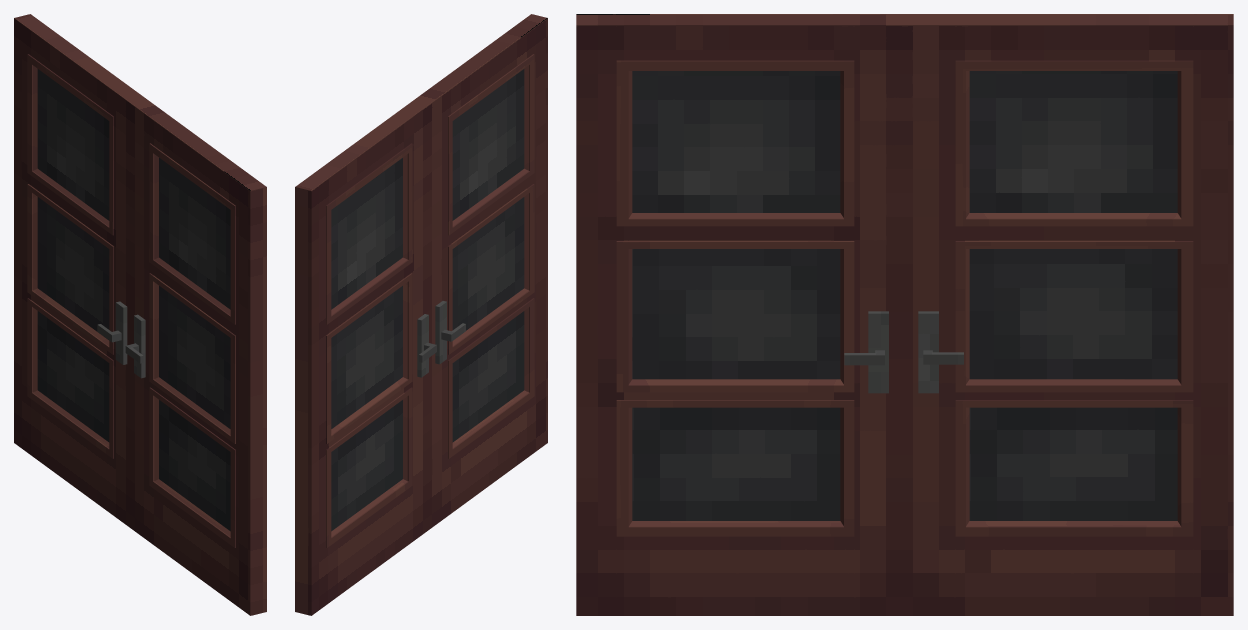
Rendered from Door.2.fbx.
The picture shows the model from 3 angles, left to right: view 1: azimuth 30°, elevation 25°; view 2: azimuth 150°, elevation 25°; view 3: azimuth 270°, elevation 25°; orthographic projection. The views are drawn at different scales.
Visible parts, largest first — view 1: Door.2; view 2: Door.2; view 3: Door.2.
Boxes of the visible parts, box(x1,y1,x2,y2) form: Door.2: box(14, 14, 266, 615); Door.2: box(295, 14, 547, 615); Door.2: box(576, 14, 1233, 615).
Size of the model in its own units: 44.58 by 440 by 443.
1 material, 1 textured.
